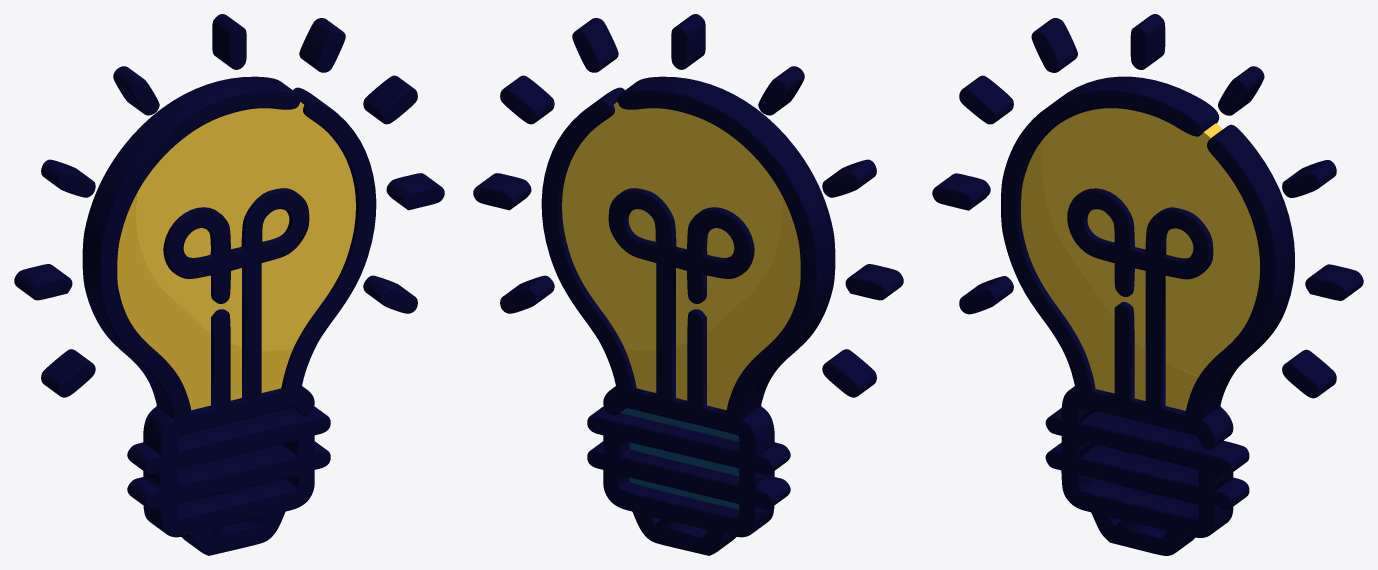
Rendered from lamp.gltf.
The picture shows the model from 3 angles, left to right: view 1: azimuth 30°, elevation 25°; view 2: azimuth 150°, elevation 25°; view 3: azimuth 330°, elevation 25°; orthographic projection.
Parts seen in each view (by area): view 1: path137, path149, path147; view 2: path137, path149, path147, path141; view 3: path137, path149, path147.
Part boxes in pixels (left/top/right/bottom): path137: left=14, top=14, right=444, bottom=555; path149: left=136, top=102, right=355, bottom=350; path147: left=117, top=194, right=293, bottom=410; path137: left=473, top=14, right=903, bottom=555; path149: left=562, top=102, right=781, bottom=350; path147: left=624, top=194, right=800, bottom=410; path141: left=620, top=408, right=739, bottom=509; path137: left=932, top=14, right=1363, bottom=555; path149: left=1042, top=108, right=1259, bottom=375; path147: left=1021, top=138, right=1198, bottom=410.
Bounding box in the file's own units: 10.44 × 12.61 × 0.8056.
